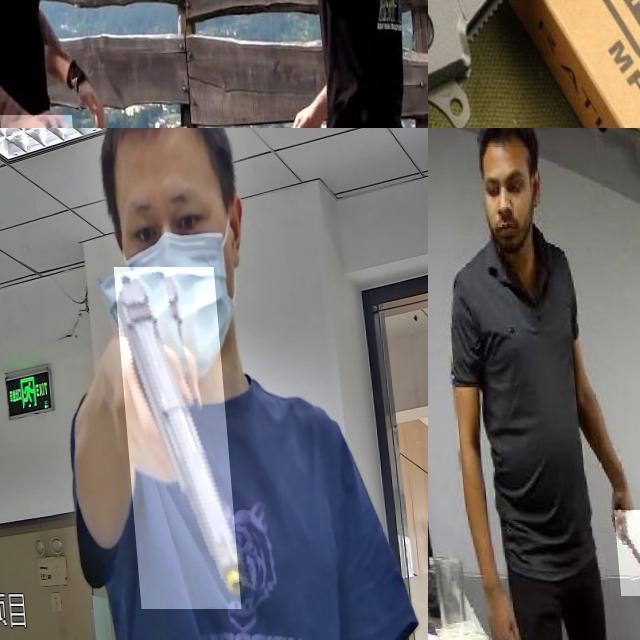-: (428, 2, 592, 128), (607, 510, 640, 596)
gun-knife-thesis - v11 Yolov5 augmented: (110, 267, 230, 609)
